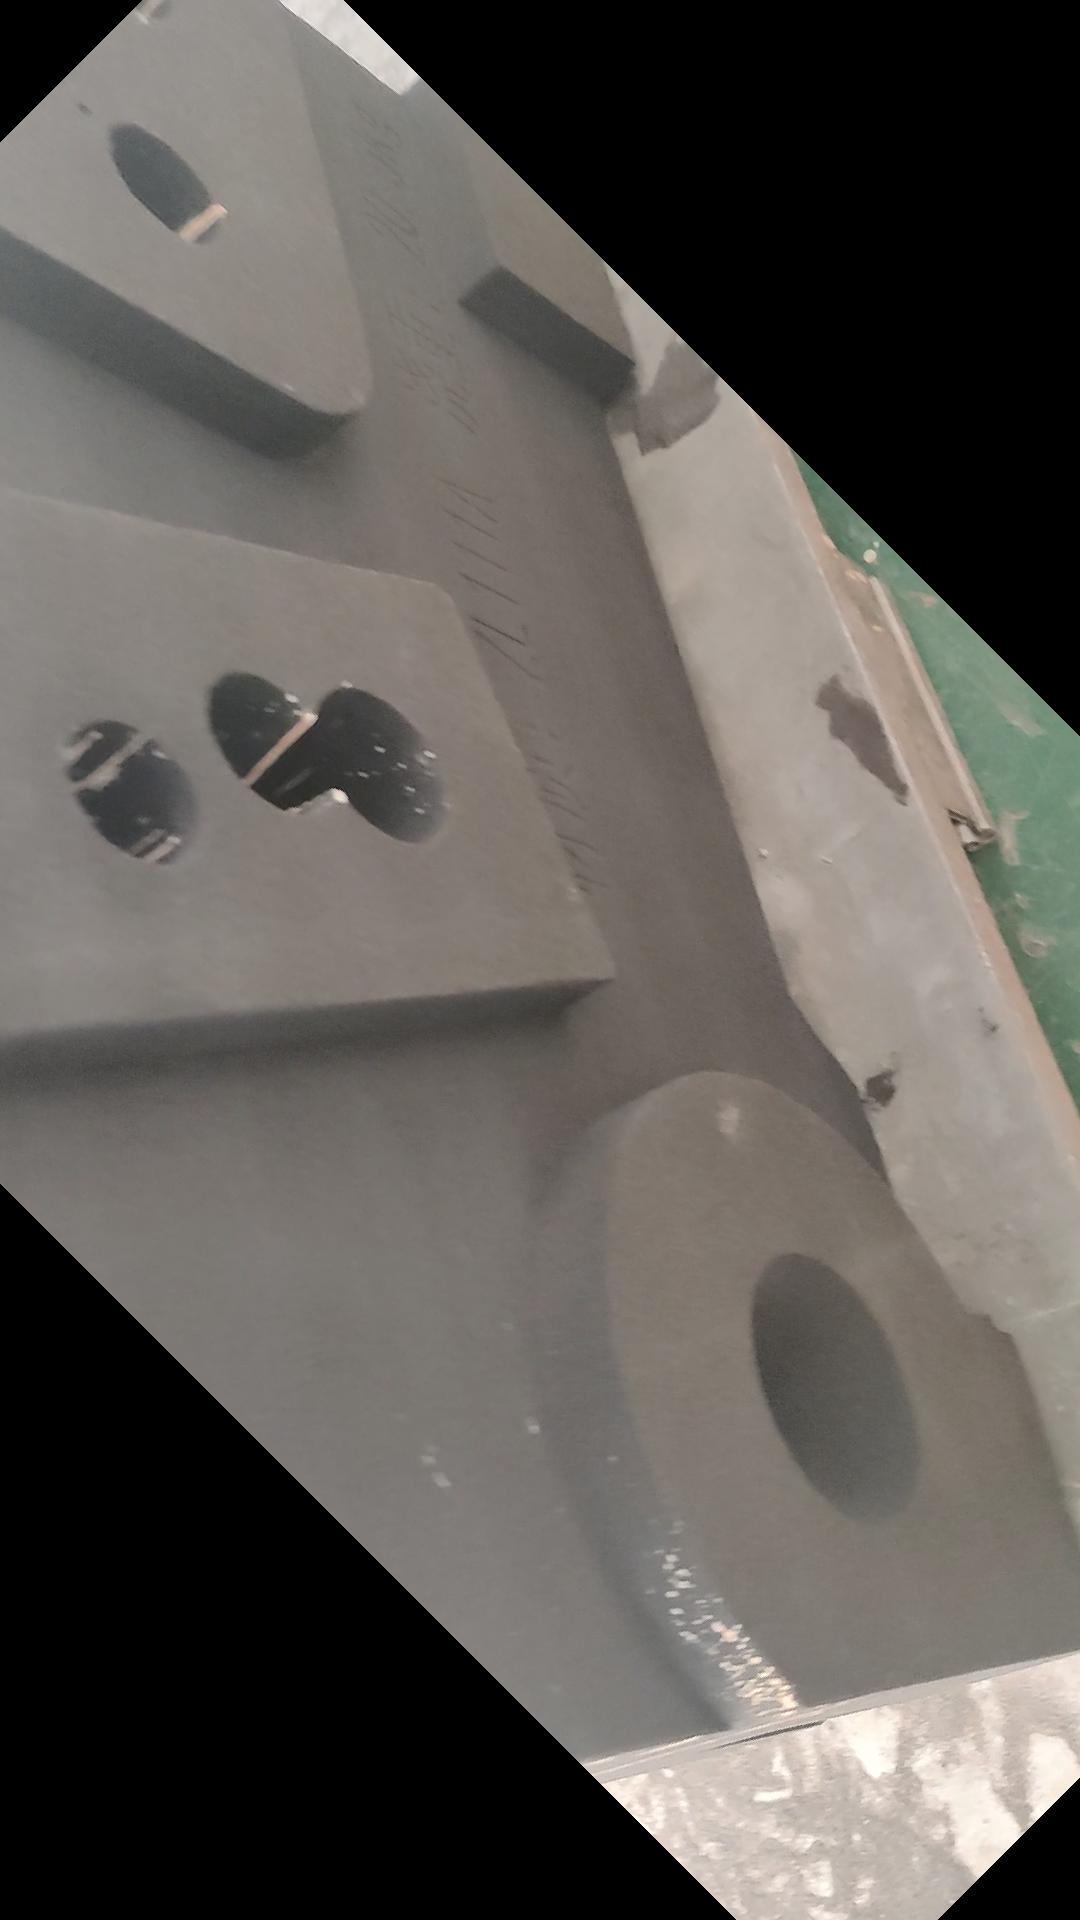pouring hole: (752, 1251, 923, 1530)
